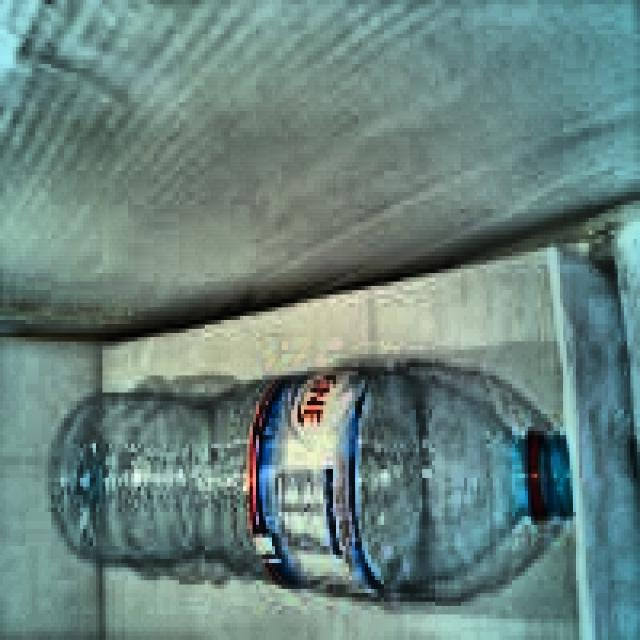plastic bottle: (54, 371, 571, 593)
